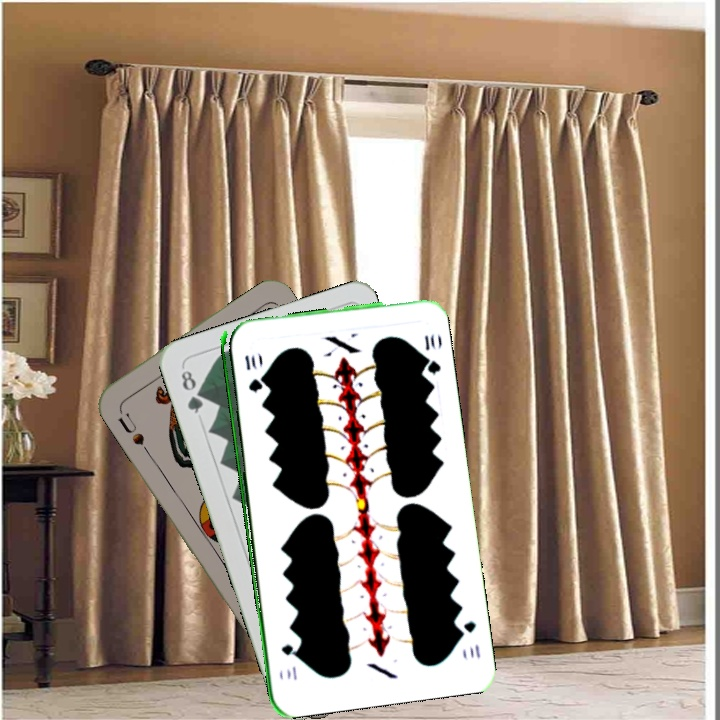G10: (454, 617, 483, 660), (241, 351, 261, 395)
G8: (177, 366, 206, 417)
SU: (114, 403, 147, 448)
